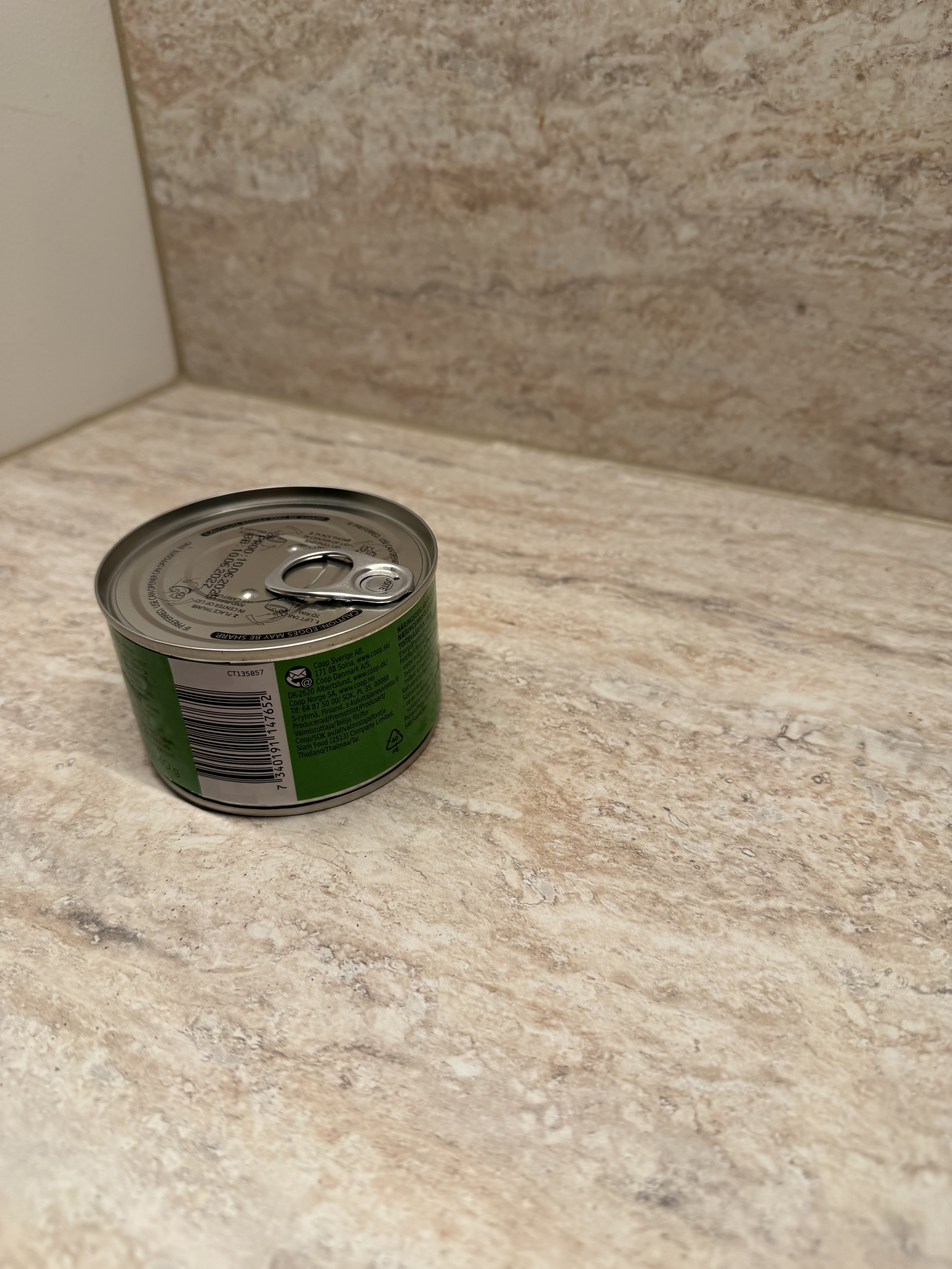Konservburk: (61, 466, 464, 838)
